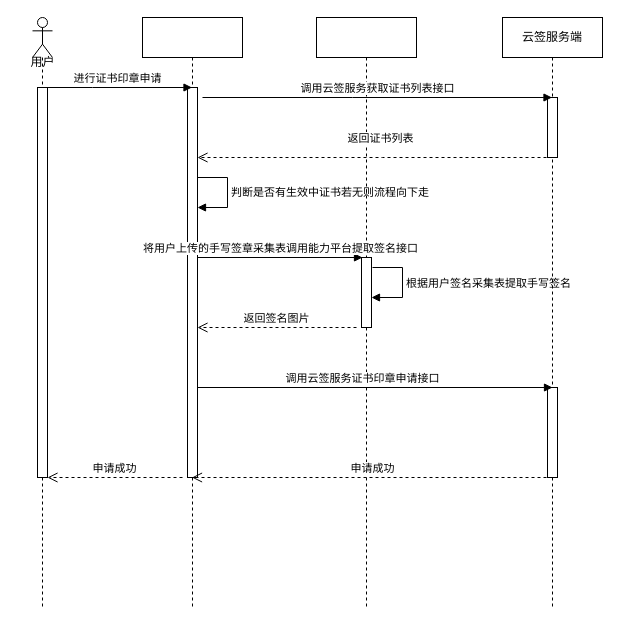
Image size: 620x625. Some labels were removed from this diagram. The shapes that lost their labels are listed below. From the top down, each one's box as (x1, y1, x2, y2) in pixels, then its label:
(142, 16, 242, 608): 业务系统
(316, 16, 416, 608): 能力平台
